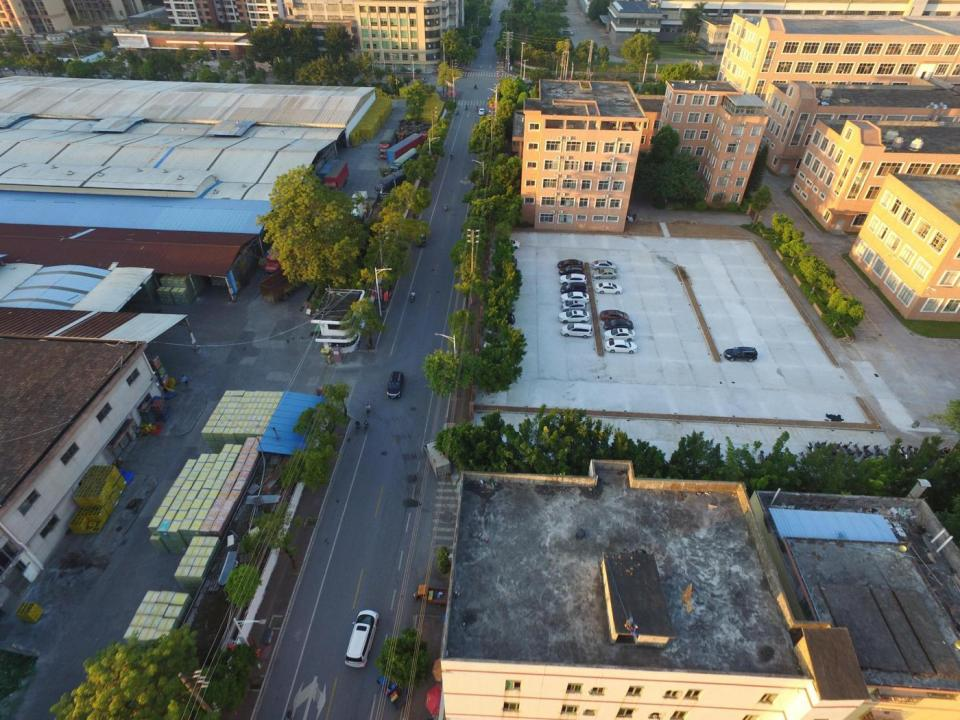bus: (414, 220, 428, 246)
car: (386, 371, 405, 399), (604, 339, 637, 354), (560, 323, 592, 338), (558, 309, 590, 324), (604, 328, 636, 341), (560, 291, 590, 304), (600, 310, 630, 322), (603, 319, 634, 330), (495, 238, 521, 251), (488, 298, 514, 311), (594, 283, 624, 294), (560, 273, 587, 285), (488, 313, 515, 325), (592, 268, 618, 280), (562, 300, 587, 312), (592, 259, 617, 271), (560, 265, 584, 277), (558, 258, 584, 269), (478, 108, 486, 115)
truck: (423, 440, 451, 477)
van: (343, 609, 380, 669), (723, 346, 759, 362), (560, 282, 586, 294), (563, 29, 574, 36)
